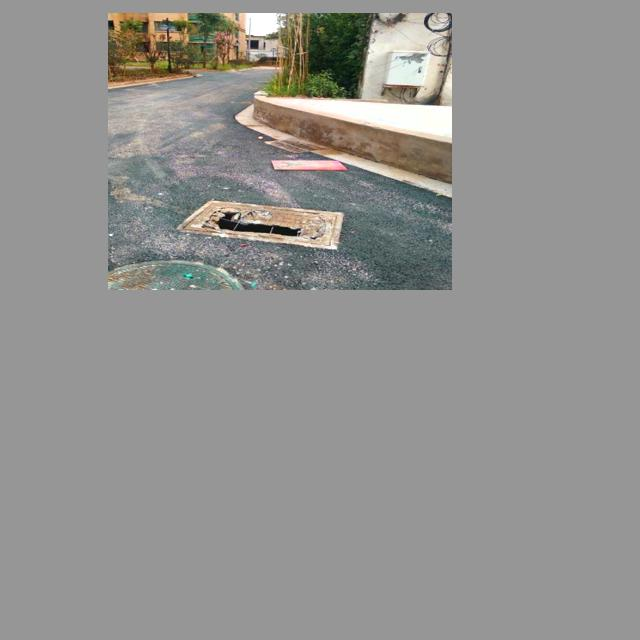broke: (177, 199, 345, 249)
good: (108, 260, 247, 289)
